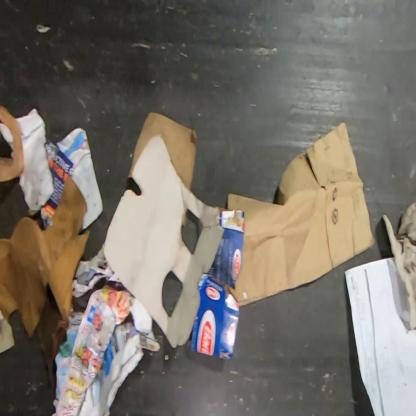cardboard: (217, 120, 375, 308), (101, 133, 229, 349), (190, 209, 246, 362)
soft_plastic: (0, 104, 25, 184)
